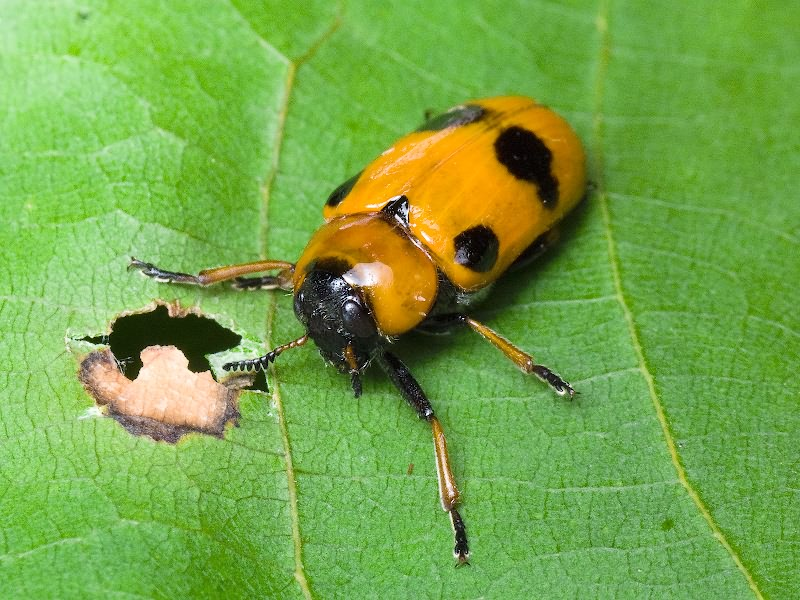Tituboea_macropus: (126, 86, 602, 568)
